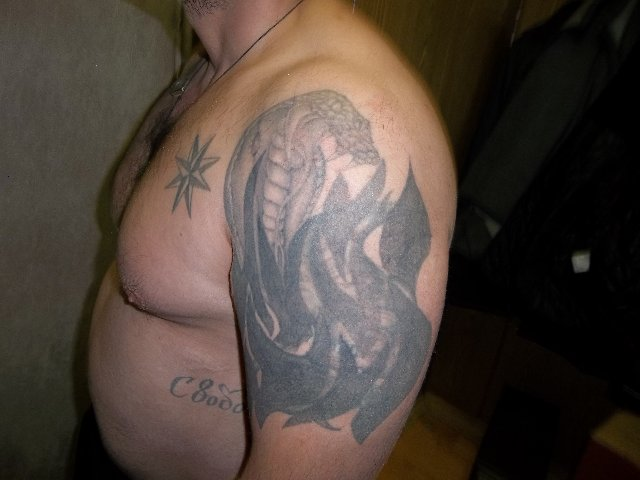tatu7_zmeya: (225, 61, 416, 392)
tatu9_krest: (155, 129, 226, 221)
